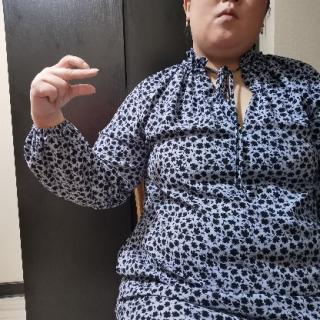DHELL: (28, 52, 105, 125)
